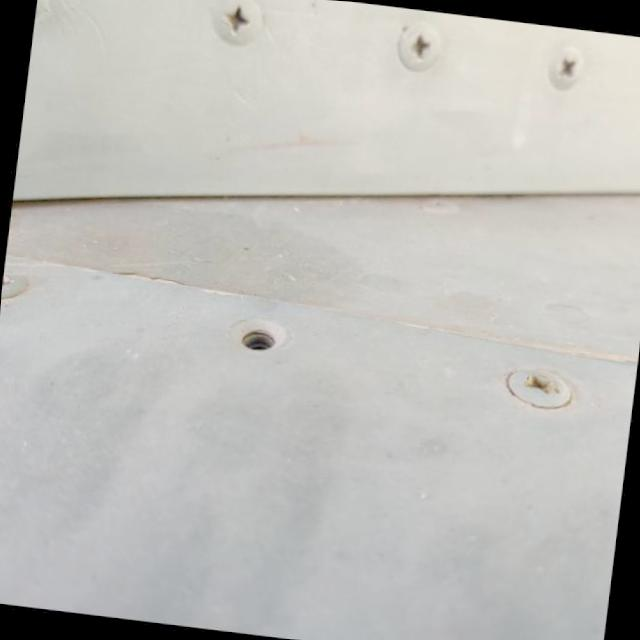Missing Fastener: (222, 312, 295, 364)
